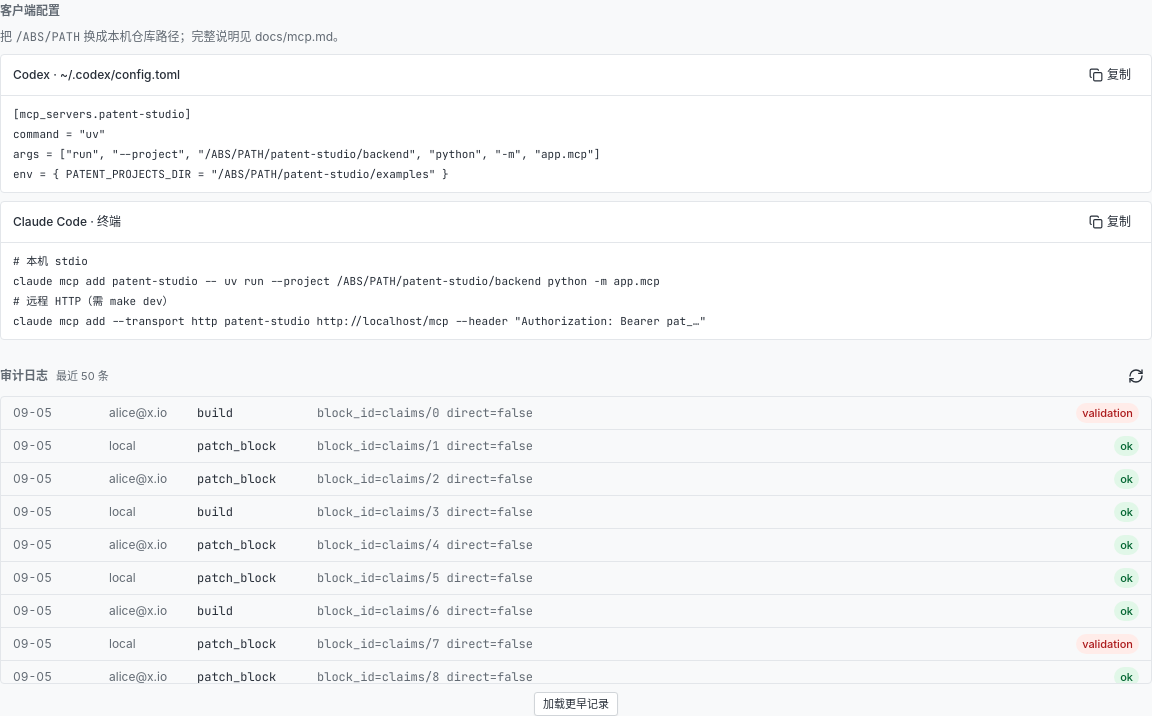
R7 mcp slice + IntegrationsPage › R115-批22：审计满窗 →「加载更早」扩容重查；窗口大于返回数后按钮消失
(page scrolled)
What coordinates should you click on to do the following:
click the button with test id "audit-load-more"
I would click on:
 (576, 704)
Its box is x1=534 y1=692 x2=618 y2=715.
(page scrolled)
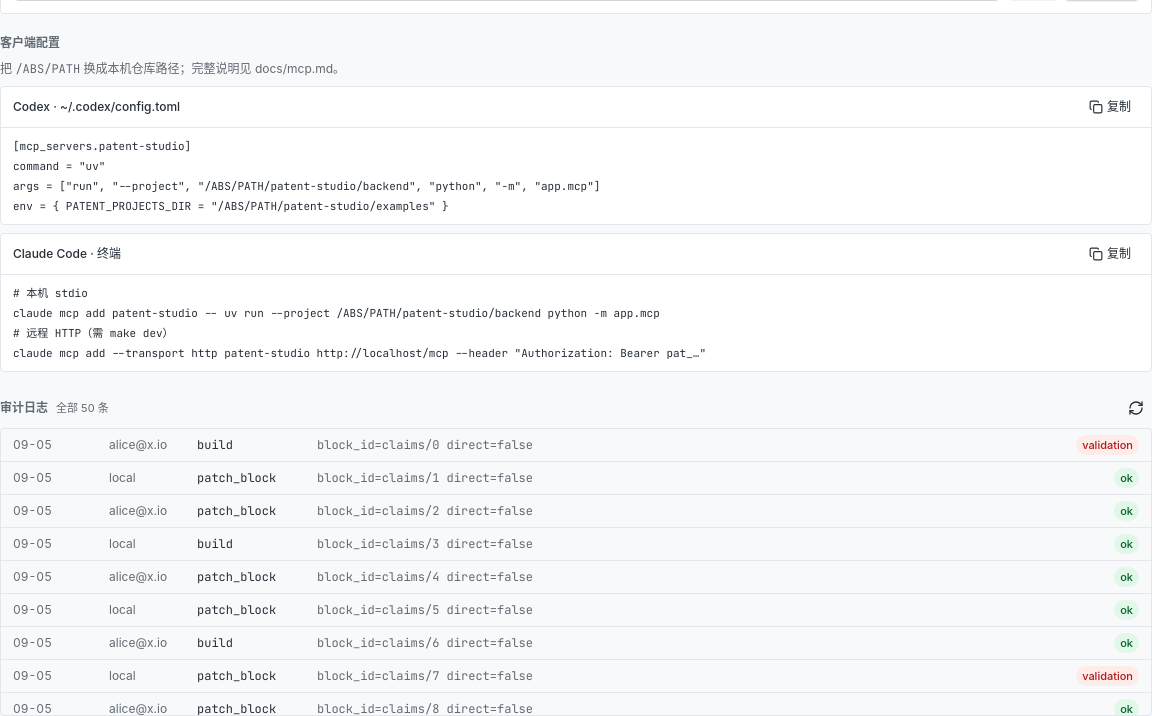
Expected: the button with test id "audit-load-more" is gone
Expected: the text "全部 50 条" is shown, x1=56 y1=400 x2=109 y2=416
